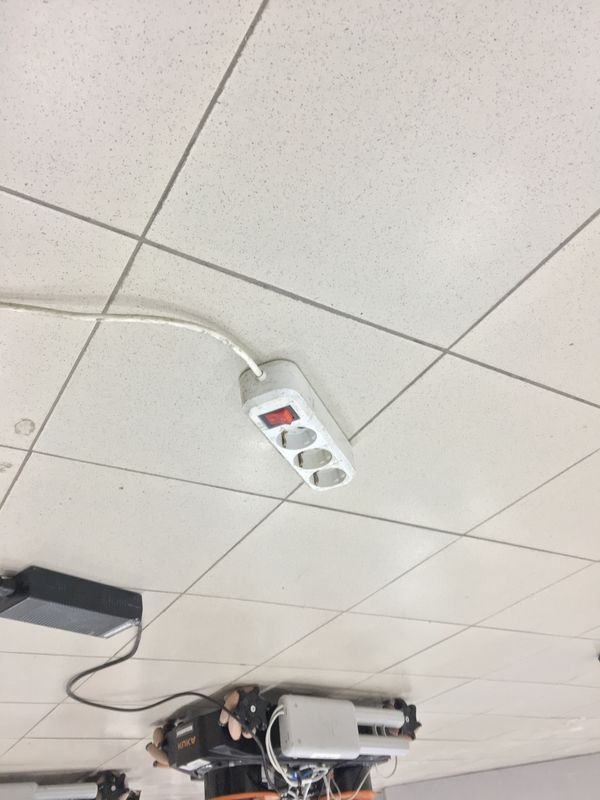socket: (228, 352, 367, 497)
